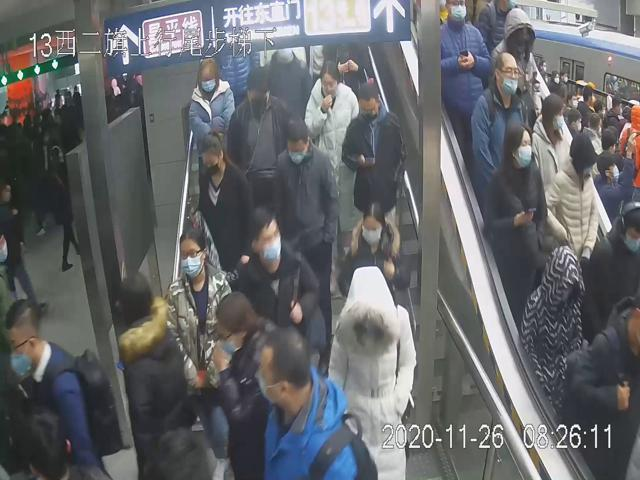person: (327, 261, 416, 480), (162, 223, 236, 435), (232, 202, 328, 360), (481, 122, 549, 312), (466, 44, 529, 220), (267, 113, 337, 264), (299, 58, 358, 216), (340, 81, 406, 222), (227, 67, 299, 192), (191, 128, 253, 270), (336, 195, 412, 310), (184, 51, 236, 188)
